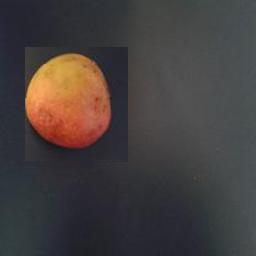Mango Semifresh: (25, 48, 128, 163)
